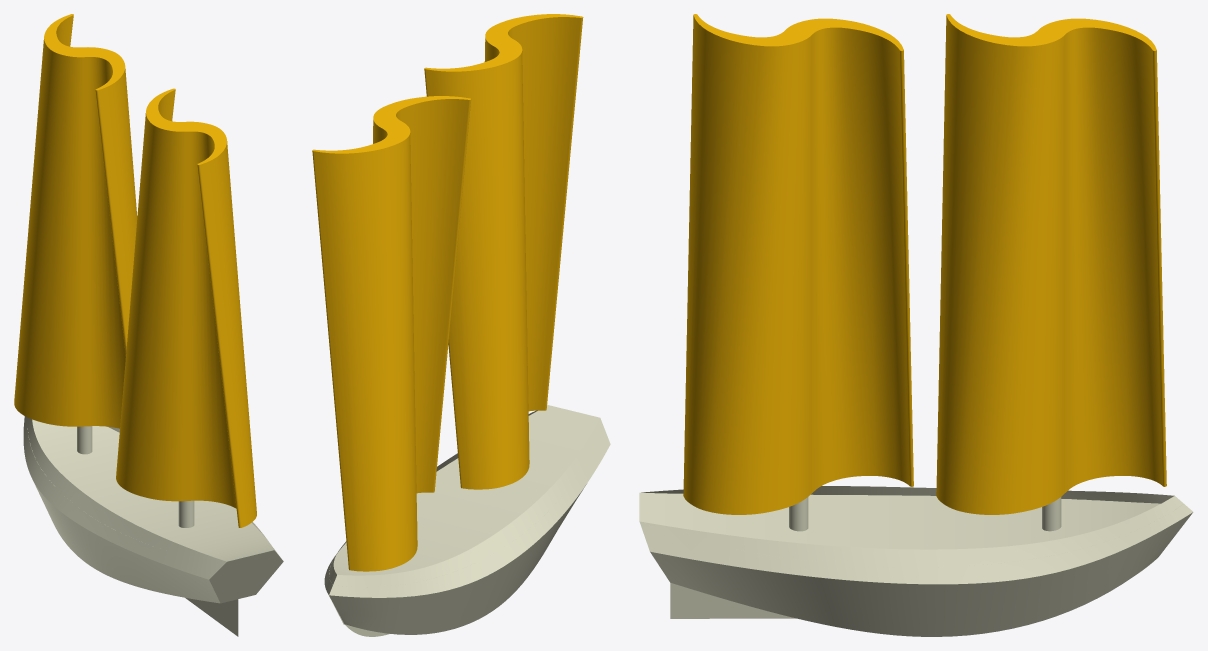
Rendered from BOOTJE_05.dae.
The picture shows the model from 3 angles, left to right: view 1: azimuth 30°, elevation 25°; view 2: azimuth 150°, elevation 25°; view 3: azimuth 270°, elevation 25°; orthographic projection. The views are drawn at different scales.
Visible parts, largest first — view 1: SketchUp (×15); view 2: SketchUp (×11); view 3: SketchUp (×13).
Part boxes in pixels (x1,y1,x2,y2): SketchUp (×15): [14, 14, 283, 636]; SketchUp (×11): [312, 14, 610, 634]; SketchUp (×13): [639, 14, 1192, 636].
Size of the model in its own units: 40.29 by 116 by 136.
